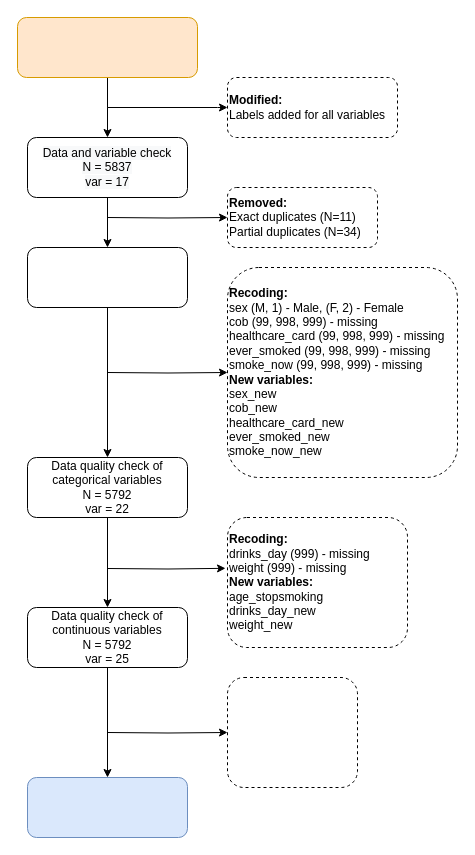
Some shapes in this 475 by 855 pixel diagram are drawn without their labels. The box of each missing label's shape, as (x1, y1, x2, y2) in pixels:
Data analysis N = 5792 var = 31 gp_cleaned: (26, 776, 188, 838)
Data cleaning step N = 5792 var = 17: (26, 246, 188, 308)
New variables: smoke_stauts_GP risky_alcohol_GP BMI_GP obese_GP highBP_GP agecat: (226, 676, 358, 788)
Original data N = 5837 var = 17 assignmt2a_gp_data.sas7bdat: (16, 16, 198, 78)
